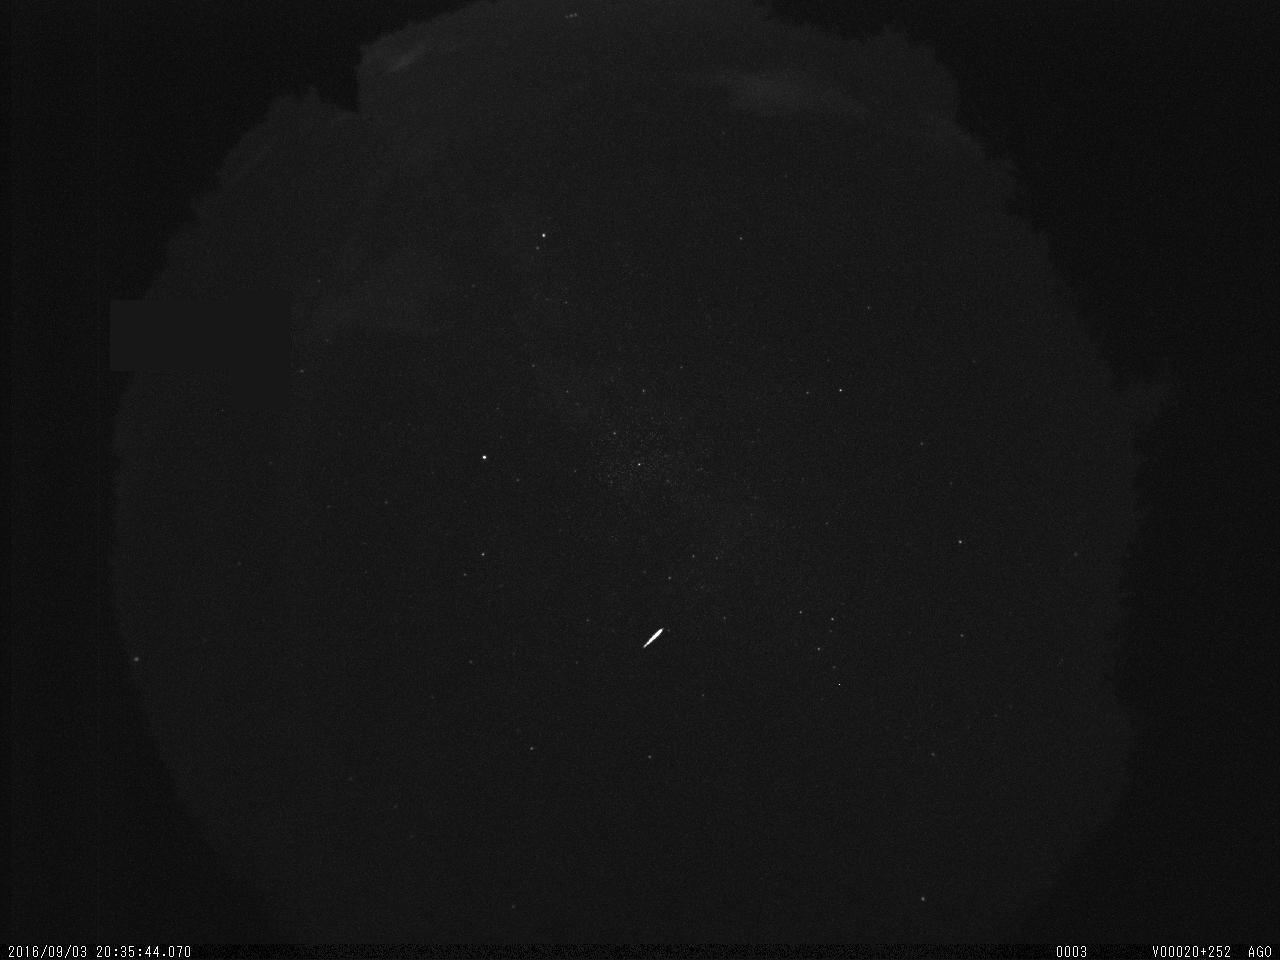Meteor: (642, 625, 668, 649)
